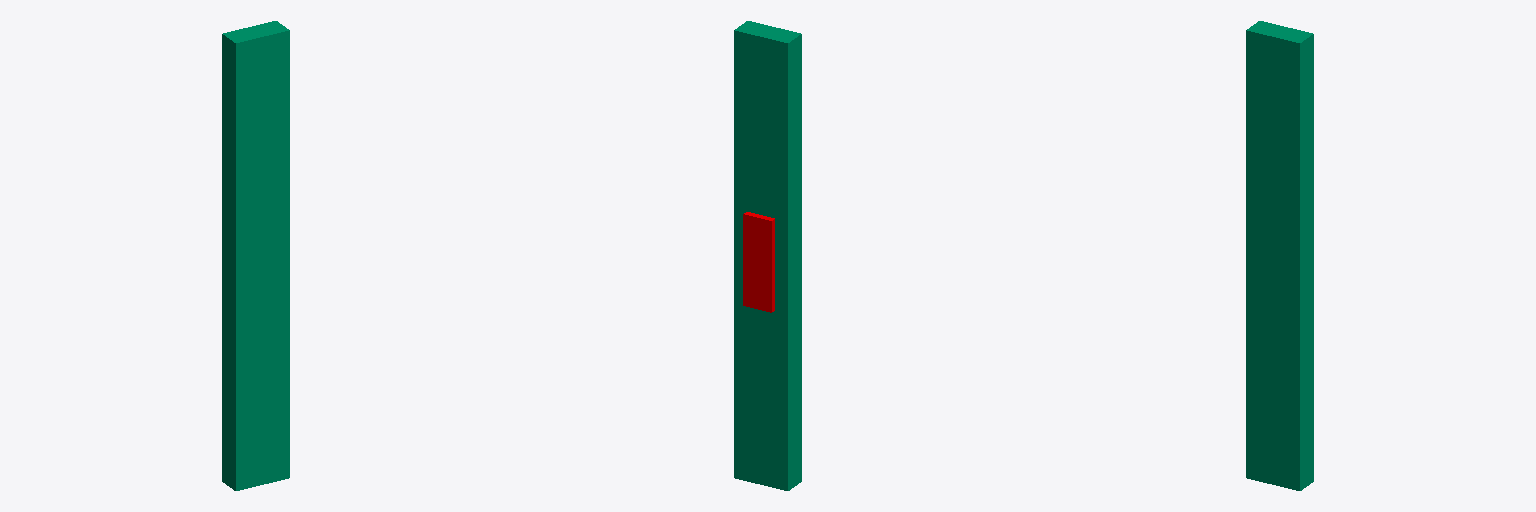
URDF robot description (knife):
<?xml version='1.0' encoding='utf-8'?>
<robot name="knife">
  <link name="base" /><joint name="joint_0" type="fixed"><origin xyz="0 0 0" rpy="0 0 0" /><parent link="base" /><child link="link_0" /></joint><link name="link_1">
    <visual name="link_1">
      <origin xyz="0 0.005174 0" rpy="0 0 0" />
      <geometry>
        <box size="0.009972707071271514 0.002171690203664292 0.03076294678601453" /></geometry>
    <material name="red"><color rgba="1 0 0 1" /></material></visual>
    <collision>
      <origin xyz="0 0.005174 0" rpy="0 0 0" />
      <geometry>
        <box size="0.009972707071271514 0.002171690203664292 0.03076294678601453" /></geometry>
    </collision>
    </link>
  <joint name="joint_1" type="prismatic">
    <origin xyz="0 0 0" />
    <axis xyz="0 0 1" />
    <child link="link_1" />
    <parent link="link_0" />
    <limit lower="-0.044255" upper="0.005745" effort="100.0" velocity="1.0" />
  </joint>
  <link name="link_0">
    <visual name="link_0">
      <origin xyz="0 0 0" />
      <geometry>
        <box size="0.018945338661883904 0.008176767010928829 0.15012138887259288" /></geometry>
    </visual>
    <collision>
      <origin xyz="0 0 0" />
      <geometry>
        <box size="0.018945338661883904 0.008176767010928829 0.15012138887259288" /></geometry>
    </collision>
    </link>
</robot>

--- Facts derived from the render (not from the file) ---
3 views of the same robot in one strip: view 1: azimuth 30°, elevation 25°; view 2: azimuth 150°, elevation 25°; view 3: azimuth 330°, elevation 25° (orthographic).
Robot: knife — 3 links, 2 joints (1 prismatic, 1 fixed); root link base; default pose: every joint at zero.
Links seen in each view (by area): view 1: link_0; view 2: link_0, link_1; view 3: link_0.
Link boxes in pixels (x1,y1,x2,y2): link_0: (222,21,289,490); link_0: (734,21,801,490); link_1: (743,212,774,312); link_0: (1246,21,1313,490).
Bounding box of the posed robot: 0.0189 × 0.0103 × 0.1501 m (x, y, z).
Geometry: primitives only (box / cylinder / sphere), no mesh files.
